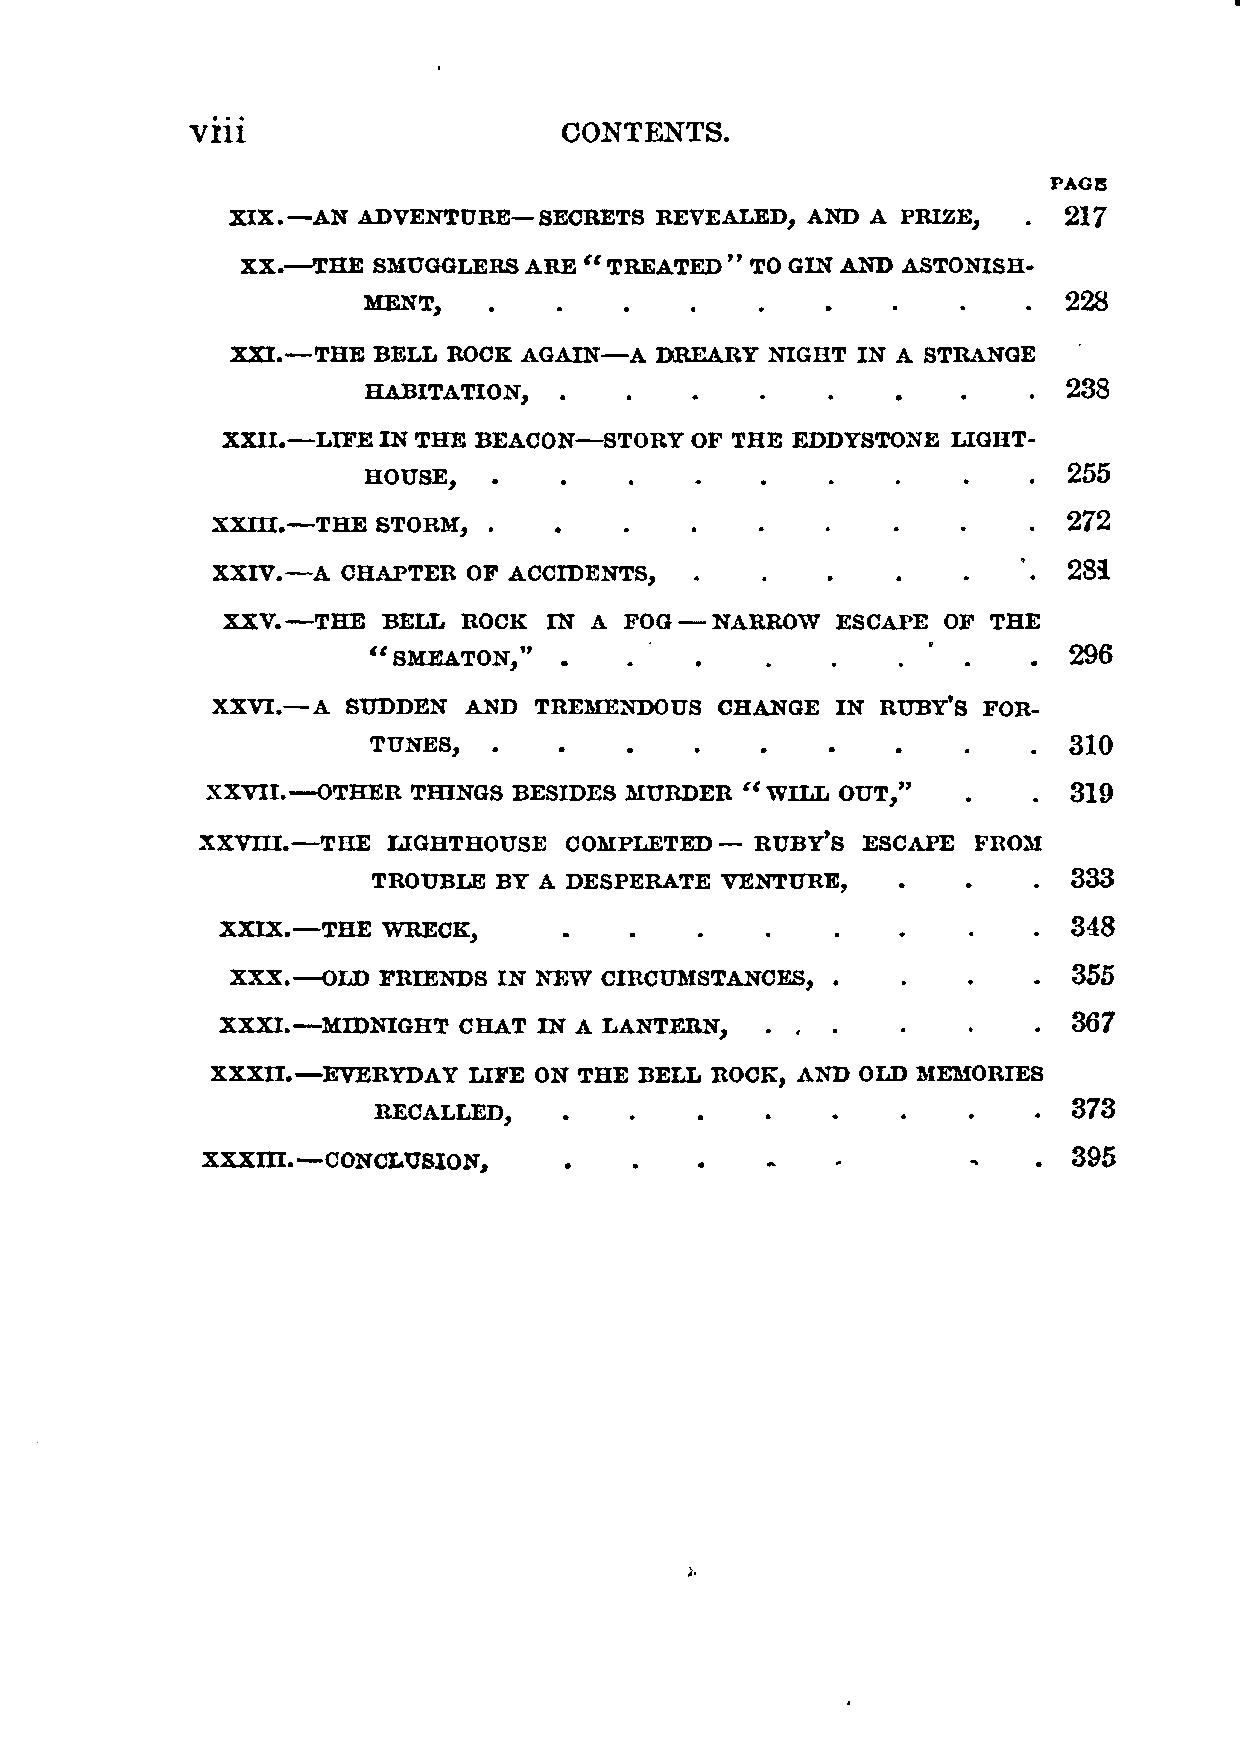TOC_chapter: (196, 825, 1047, 900), (203, 690, 1047, 764), (219, 420, 1037, 490), (217, 607, 1047, 674), (209, 1056, 1049, 1122), (225, 344, 1041, 407), (231, 254, 1036, 317), (221, 196, 982, 238), (196, 774, 917, 811), (224, 962, 819, 1000), (215, 1013, 729, 1045), (209, 560, 660, 596), (195, 1141, 493, 1180), (208, 509, 475, 545), (208, 913, 482, 946)
TOC_pagenumber: (1062, 637, 1118, 672), (1062, 553, 1121, 585), (1063, 862, 1121, 894), (1063, 505, 1115, 537), (1066, 729, 1117, 761), (1066, 777, 1117, 809), (1066, 1092, 1121, 1122), (1063, 370, 1113, 403), (1062, 285, 1115, 314), (1068, 958, 1117, 990), (1056, 201, 1110, 229), (1068, 913, 1118, 941), (1066, 1145, 1118, 1170), (1066, 459, 1114, 486), (1066, 1011, 1118, 1035)
chapter: (553, 111, 742, 157)
